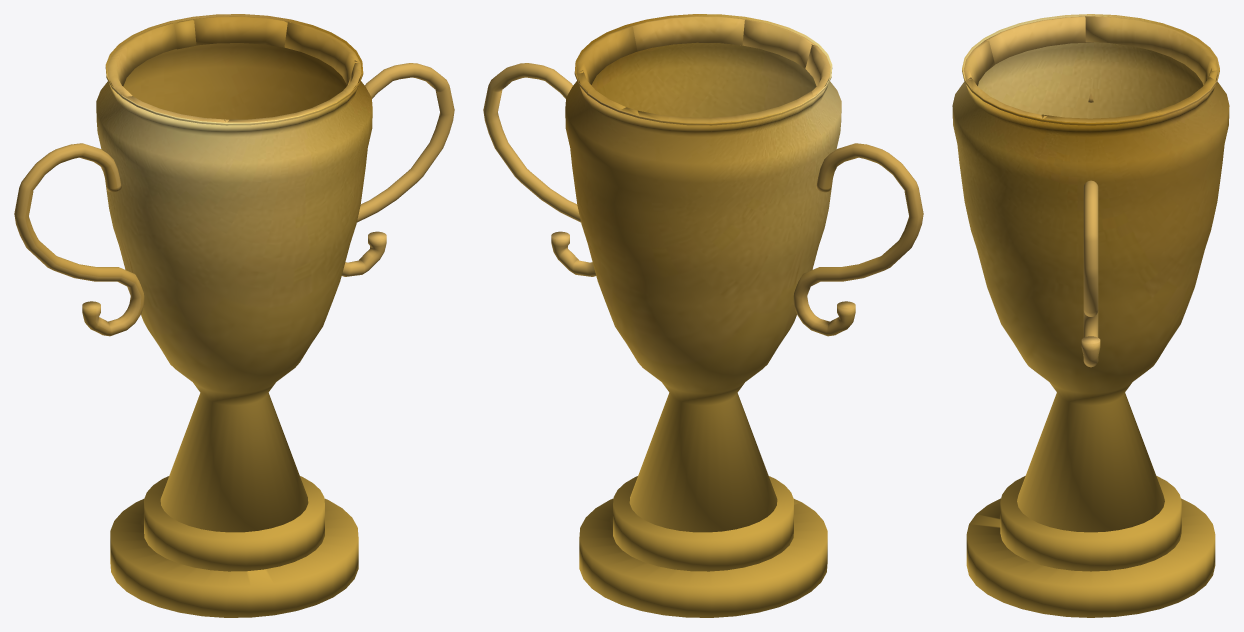
Rendered from Trofeo.glb.
3 views of the same model, side by side, from view 1: azimuth 30°, elevation 25°; view 2: azimuth 150°, elevation 25°; view 3: azimuth 270°, elevation 25° (orthographic).
Parts seen in each view (by area): view 1: Trophy_Cylinder.001; view 2: Trophy_Cylinder.001; view 3: Trophy_Cylinder.001.
Part boxes in pixels (x1=…): Trophy_Cylinder.001: x1=14, y1=14, x2=454, y2=617; Trophy_Cylinder.001: x1=483, y1=14, x2=923, y2=617; Trophy_Cylinder.001: x1=952, y1=14, x2=1229, y2=617.
Bounding box in the file's own units: 2.69 × 2.92 × 1.47.
1 material, 1 textured.
